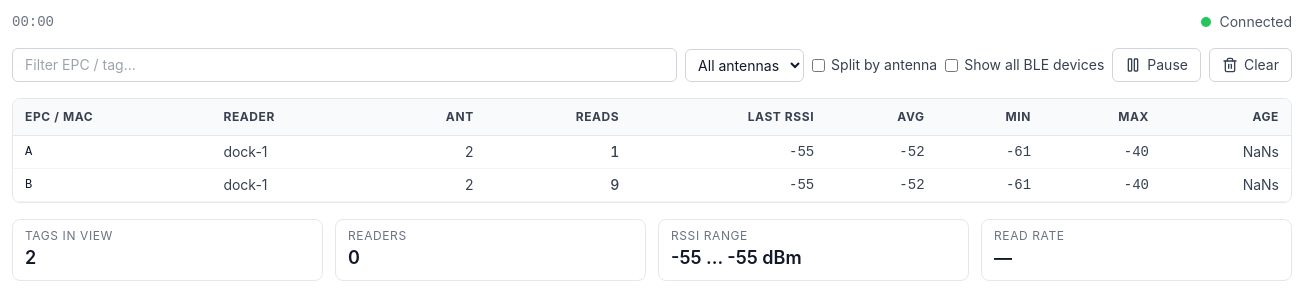
Scenario: LiveReadsFeed › cycles a column header tri-state: natural → first dir → opposite → natural (TRA-992)
Expected: the text "▼" is not shown
Expected: the text "▲" is not shown
# 1st click → desc (numeric column's first dir): highest count on top.
Click the button "Reads" at (598, 117), box [576,109,619,125]
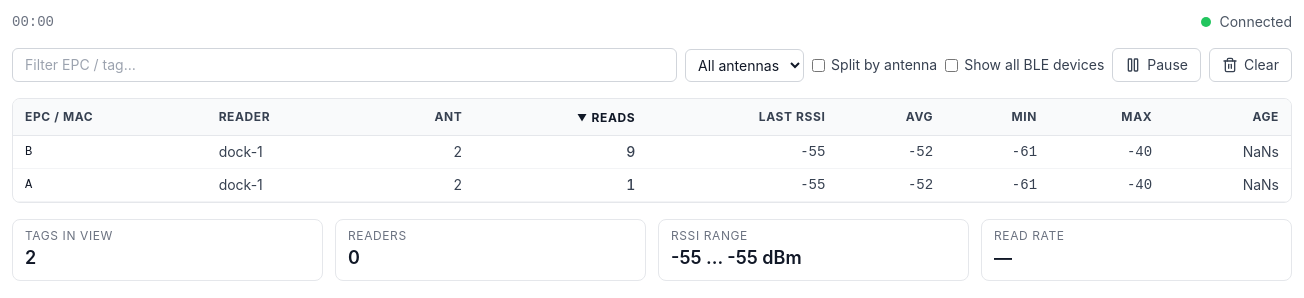
Expected: the row "B dock-1 2 9 -55 -52 -61 -40 NaNs" is shown, [13,136,1291,168]
Now the text "▼" is shown, box [577,110,588,126]
# 2nd click → asc.
Click the button "Reads ▼" at (606, 118), box [577,110,635,126]
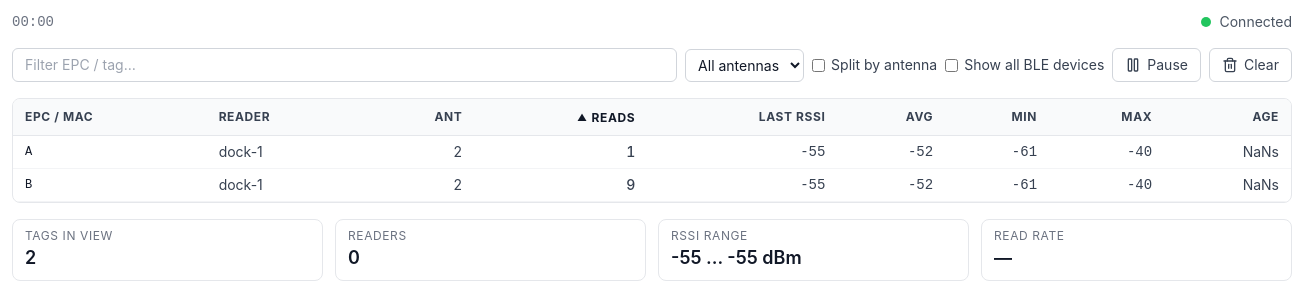
Expected: the row "A dock-1 2 1 -55 -52 -61 -40 NaNs" is shown, [13,136,1291,168]
Now the text "▲" is shown, box [577,110,588,126]
# 3rd click → back to the natural order: no glyph, first-seen order.
Click the button "Reads ▲" at (606, 118), box [577,110,635,126]
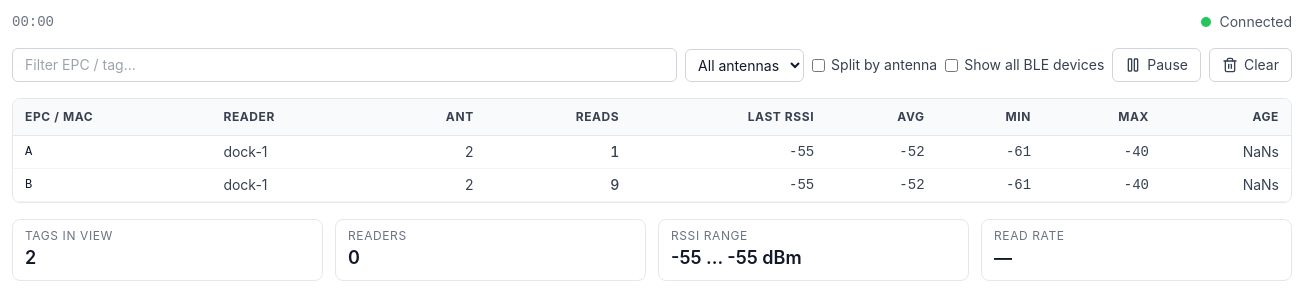
Expected: the row "A dock-1 2 1 -55 -52 -61 -40 NaNs" is shown, [13,136,1291,168]
Now the text "▲" is gone
